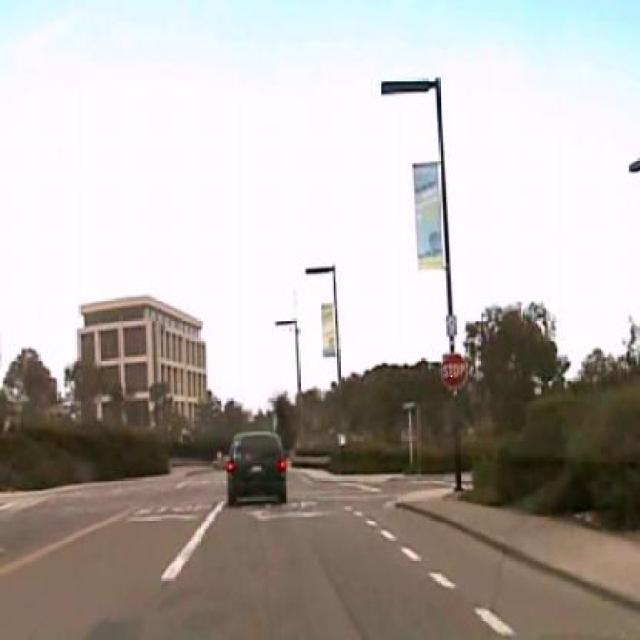stop: (440, 352, 466, 390)
